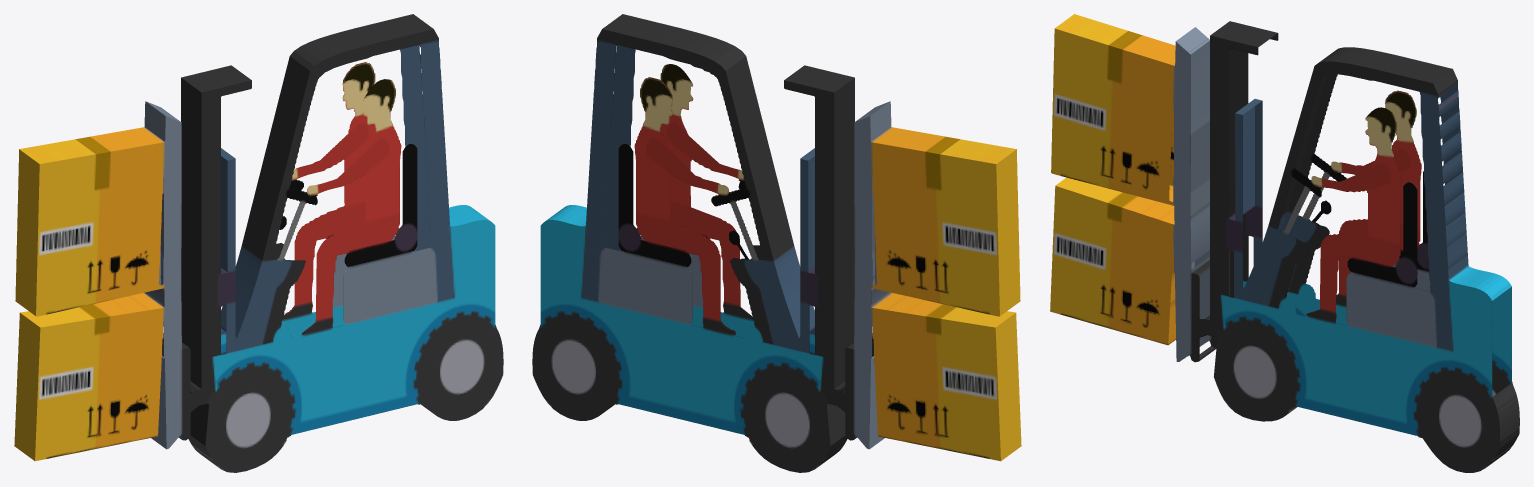
Rendered from cart2Box.FBX.
3 views of the same model, side by side, from view 1: azimuth 30°, elevation 25°; view 2: azimuth 150°, elevation 25°; view 3: azimuth 330°, elevation 25° (orthographic). The views are drawn at different scales.
Visible parts, largest first — view 1: cart2Box; view 2: cart2Box; view 3: cart2Box.
Boxes of the visible parts, x1,y1,x2,y2 form: cart2Box: (14,14,503,472); cart2Box: (532,14,1021,472); cart2Box: (1050,14,1519,472).
Size of the model in its own units: 40.47 by 32.82 by 3.07.
Materials: 1 (1 with a texture image).
